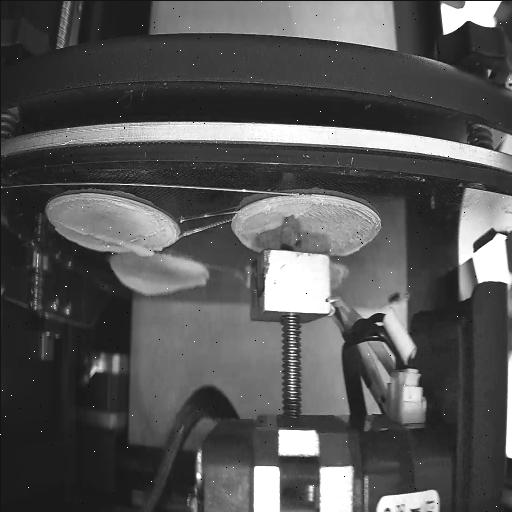over_extrusion: (60, 222, 156, 260), (112, 274, 208, 294), (335, 232, 375, 262), (244, 220, 280, 238)
